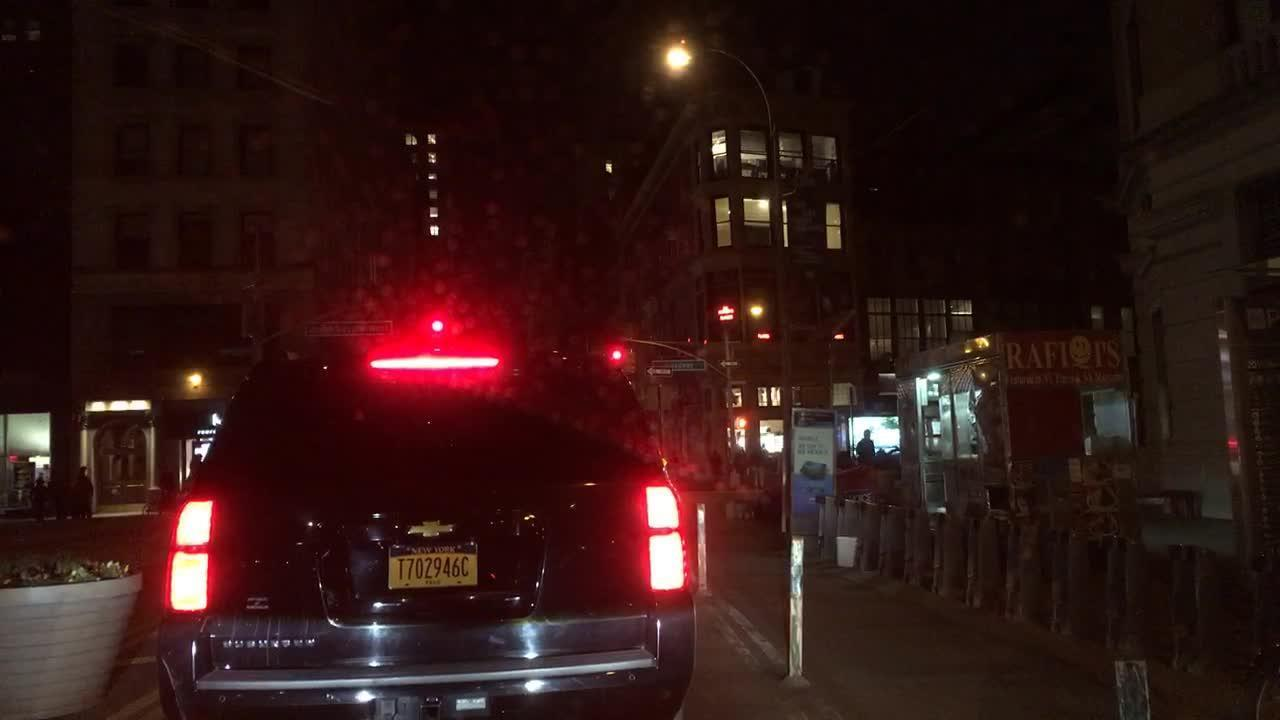chevrolet: (392, 513, 478, 544)
